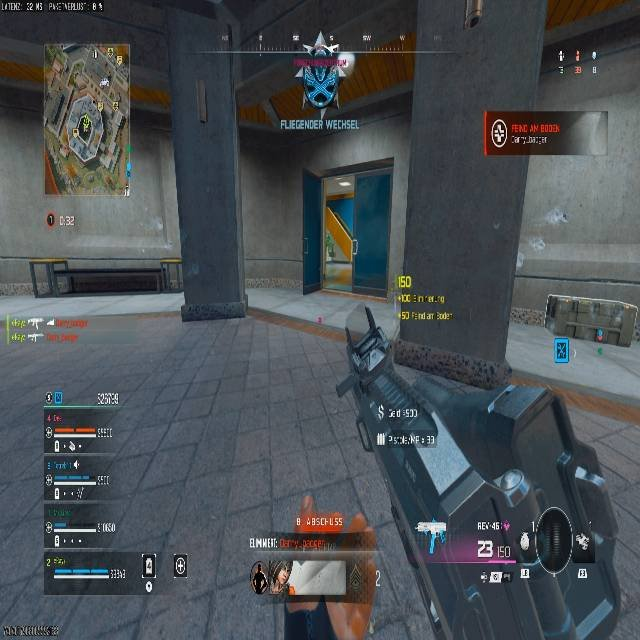player: (295, 57, 346, 127), (250, 559, 269, 596)
